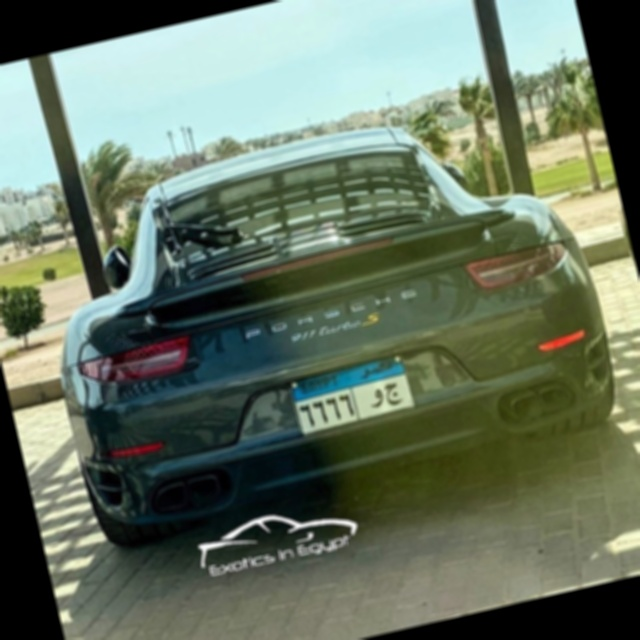License Plate: (285, 350, 417, 437)
